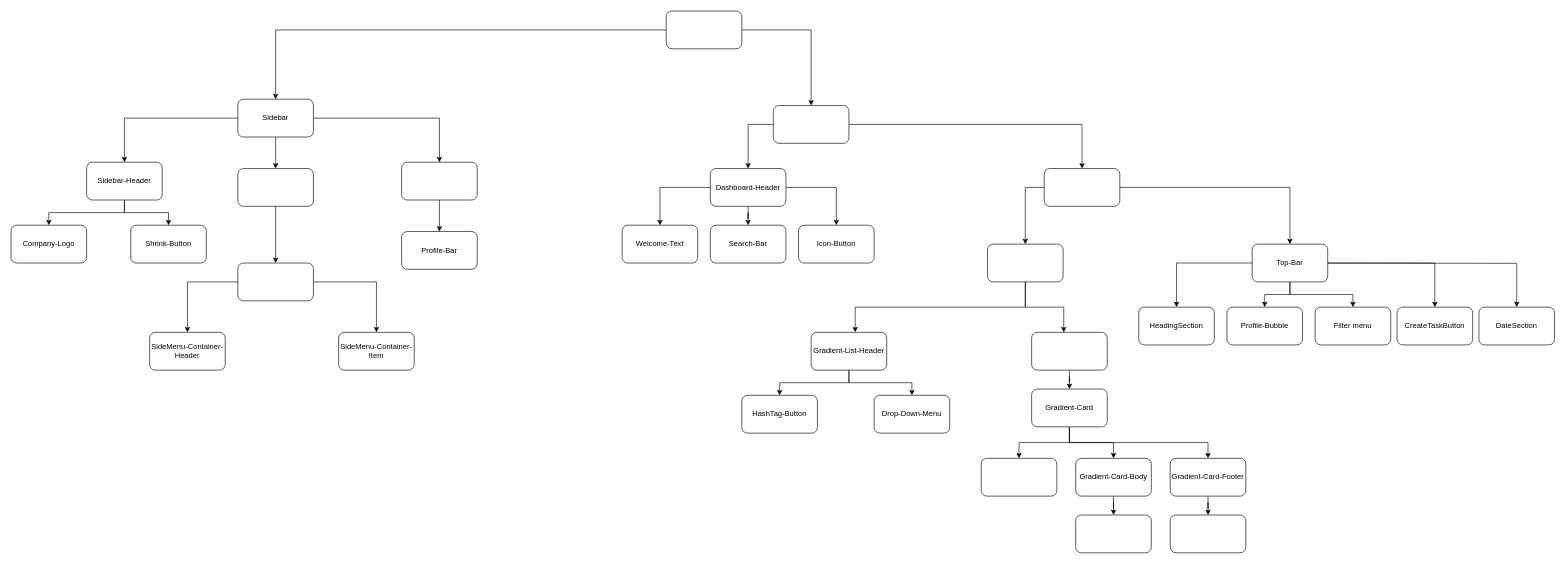
The diagram is 1566 pixels wide and 564 high, and some of its shapes have lost their labels. The centre of each missing label's shape, as x and y in pixels:
"Dashboard" belongs at [704,29].
"Dashboard-Body" belongs at [1082,187].
"Dashboard-Main" belongs at [811,124].
"Gradient-Card-Header" belongs at [1019,477].
"Gradient-List-Body" belongs at [1069,351].
"Gradient-List-View" belongs at [1025,262].
"Mini Icon Button" belongs at [1208,533].
"Progress bar" belongs at [1113,533].
"Sidebar-Body" belongs at [275,187].
"Sidebar-Footer" belongs at [439,181].
"SideMenu-Container" belongs at [275,281].
